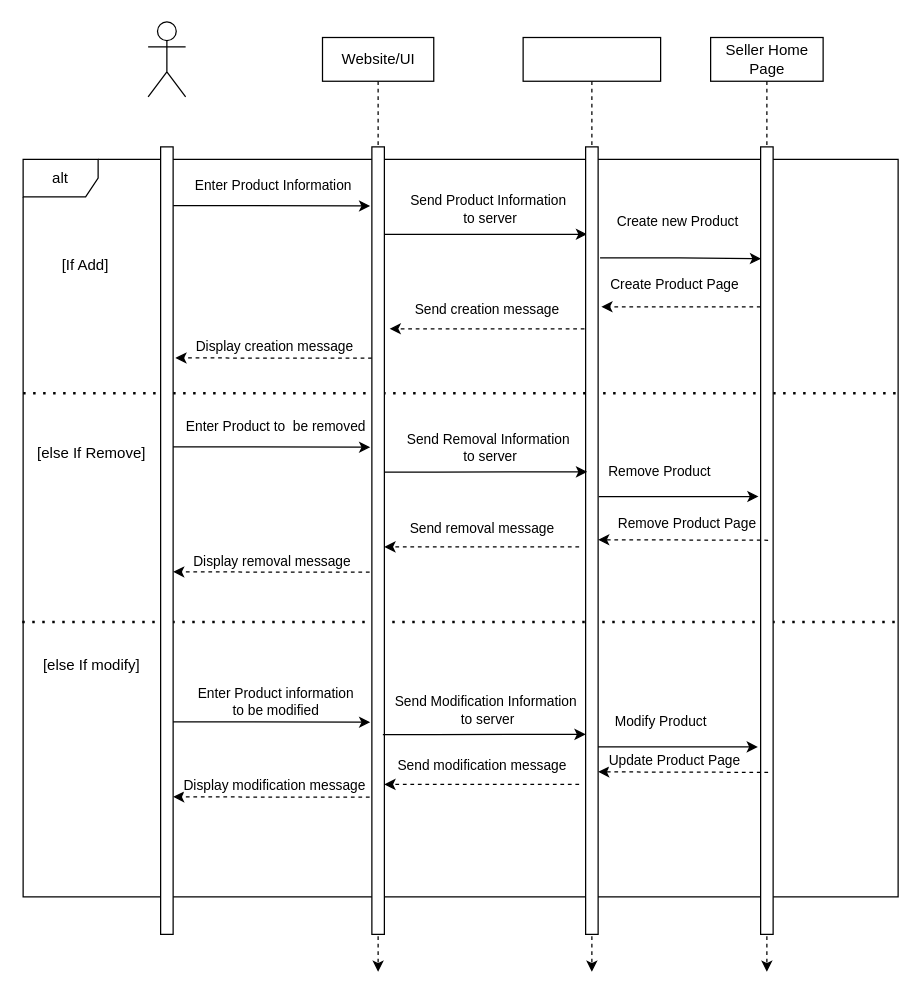
This 924x1004 diagram has some shape labels left out. Each missing label, with the centre of its shape:
"GreenHome Server" belongs at (591,58).
"Seller" belongs at (166,59).
